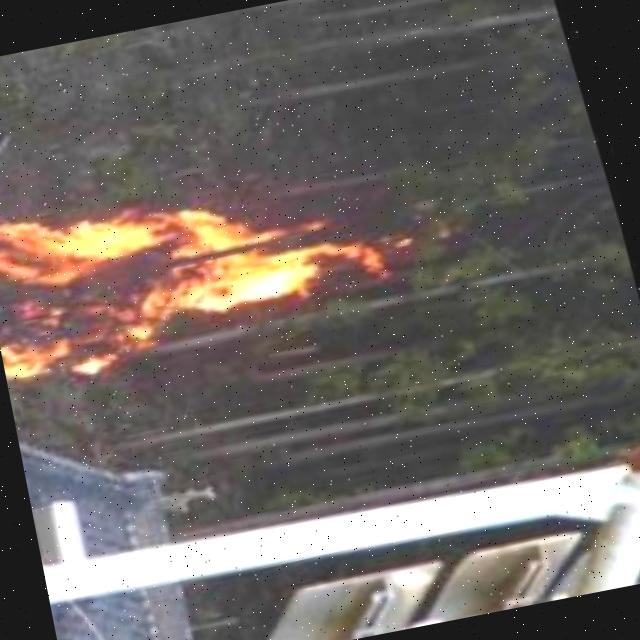fire: (0, 141, 410, 399)
